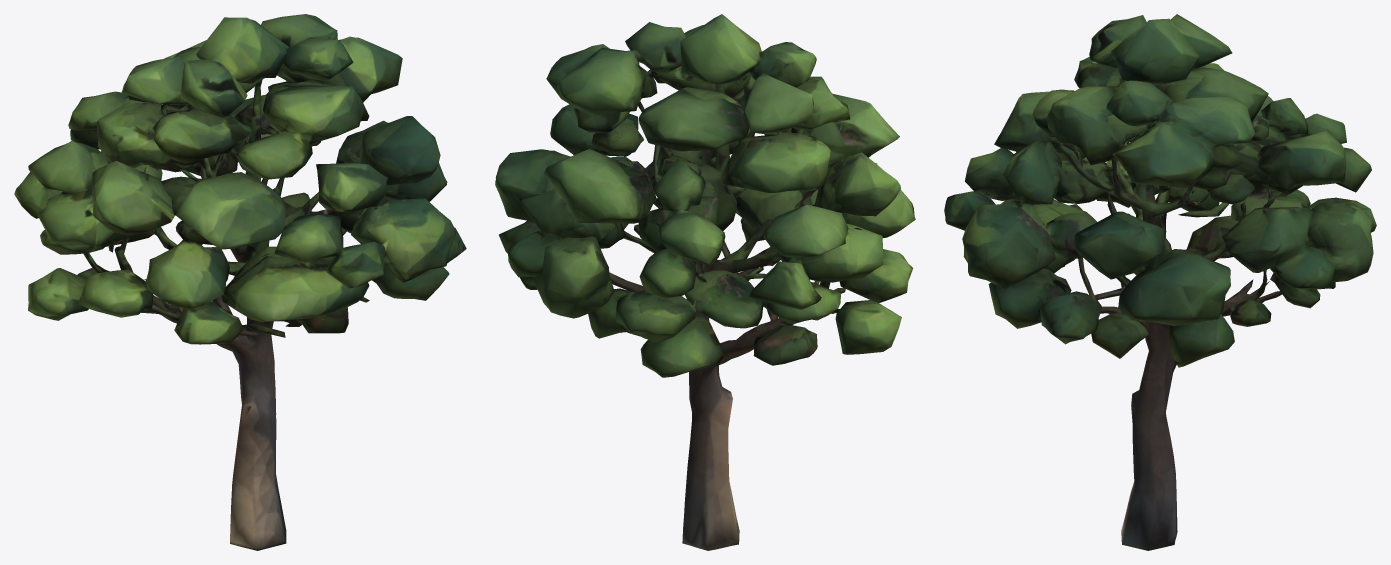
Rendered from Tree001.glb.
3 renders of one model, left to right at view 1: azimuth 30°, elevation 25°; view 2: azimuth 150°, elevation 25°; view 3: azimuth 270°, elevation 25°, orthographic. The views are drawn at different scales.
Parts seen in each view (by area): view 1: Tree001; view 2: Tree001; view 3: Tree001.
Boxes of the visible parts, x1,y1,x2,y2 form: Tree001: [14, 14, 466, 550]; Tree001: [495, 14, 915, 550]; Tree001: [944, 14, 1376, 550].
Bounding box in the file's own units: 1.59 × 2 × 1.53.
1 material, 1 textured.
